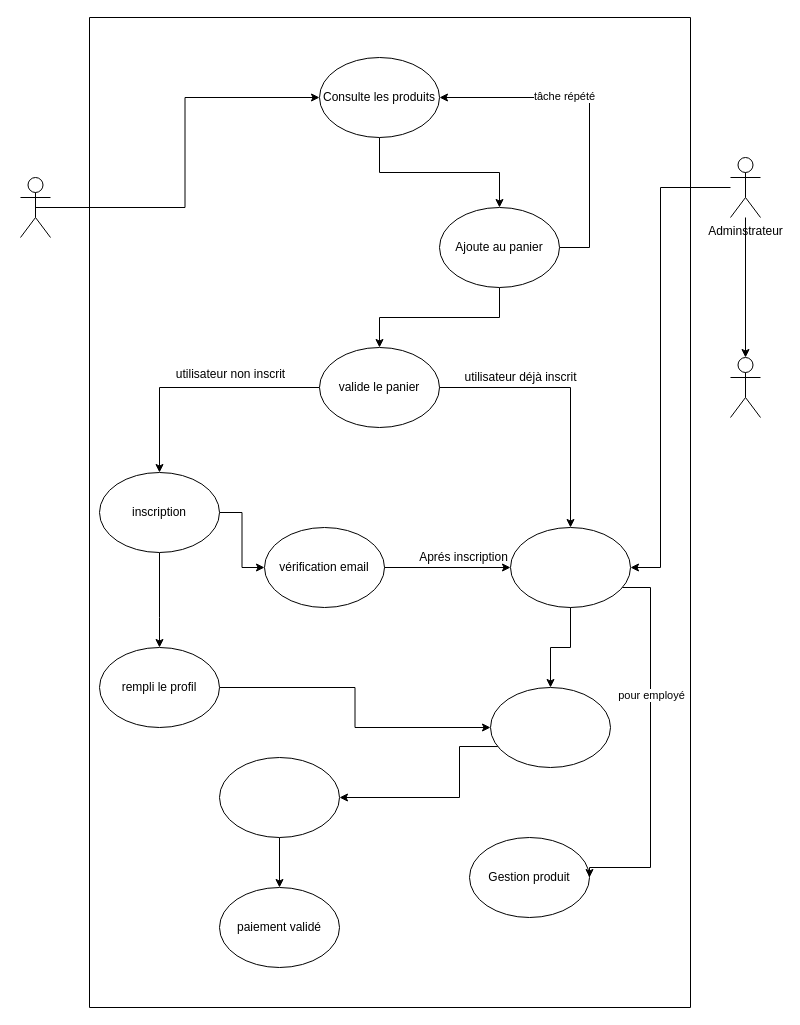
This 800x1025 diagram has some shape labels left out. Here are the shapes that lost their labels. From the top down, the box of each, then its label:
(20, 176, 50, 238): usager
(730, 356, 760, 418): employée
(510, 526, 630, 608): connexion
(490, 686, 610, 768): entre les informations de livraison
(218, 756, 340, 838): procéde au paiement
